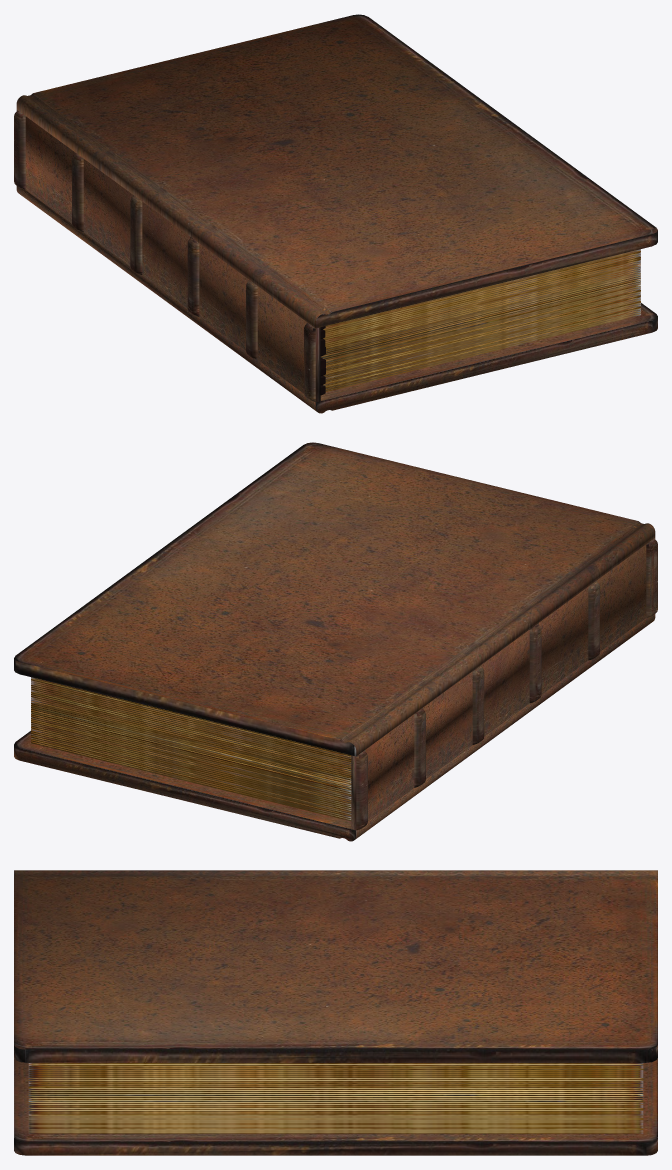
The model's file is book.gltf.
3 views of the same model, one above another, from view 1: azimuth 30°, elevation 25°; view 2: azimuth 150°, elevation 25°; view 3: azimuth 270°, elevation 25° (orthographic). The views are drawn at different scales.
Parts seen in each view (by area): view 1: top, side, bottom, page.023, page.037, page.007, page.012, page.032, page.016, page.027, page.019d, page.018d (+27 smaller); view 2: top, side, bottom, page.005, page.010, page.015, page.028, page.033, page.038, page.007, page.008, page.011 (+27 smaller); view 3: top, bottom, page.030, page.031, page.032, page.033, page.034, page.035, page.036, page.037, page.038, page.039 (+26 smaller).
Part boxes in pixels (bbox=[...]): top: bbox=[16, 14, 657, 328]; side: bbox=[14, 110, 320, 402]; bottom: bbox=[16, 186, 657, 413]; page.023: bbox=[320, 284, 640, 368]; page.037: bbox=[320, 310, 640, 395]; page.007: bbox=[320, 254, 640, 338]; page.012: bbox=[320, 263, 640, 347]; page.032: bbox=[320, 300, 640, 385]; page.016: bbox=[320, 271, 640, 356]; page.027: bbox=[320, 291, 640, 375]; page.019d: bbox=[321, 278, 640, 357]; page.018d: bbox=[322, 280, 640, 358]; top: bbox=[14, 442, 655, 756]; side: bbox=[351, 538, 657, 830]; bottom: bbox=[14, 614, 655, 841]; page.005: bbox=[31, 678, 351, 758]; page.010: bbox=[31, 688, 351, 767]; page.015: bbox=[31, 697, 351, 776]; page.028: bbox=[31, 721, 351, 800]; page.033: bbox=[31, 730, 351, 809]; page.038: bbox=[31, 739, 351, 819]; page.007: bbox=[31, 682, 351, 761]; page.008: bbox=[31, 684, 351, 763]; page.011: bbox=[31, 689, 351, 769]; top: bbox=[14, 870, 657, 1062]; bottom: bbox=[14, 1058, 657, 1155]; page.030: bbox=[28, 1113, 643, 1115]; page.031: bbox=[28, 1115, 643, 1117]; page.032: bbox=[28, 1117, 643, 1119]; page.033: bbox=[28, 1119, 643, 1121]; page.034: bbox=[28, 1121, 643, 1123]; page.035: bbox=[28, 1123, 643, 1125]; page.036: bbox=[28, 1125, 643, 1127]; page.037: bbox=[28, 1127, 643, 1129]; page.038: bbox=[28, 1129, 643, 1131]; page.039: bbox=[28, 1131, 643, 1133].
Bounding box in the file's own units: 0.745 × 0.2008 × 1.1.
3 materials, 3 textured.
